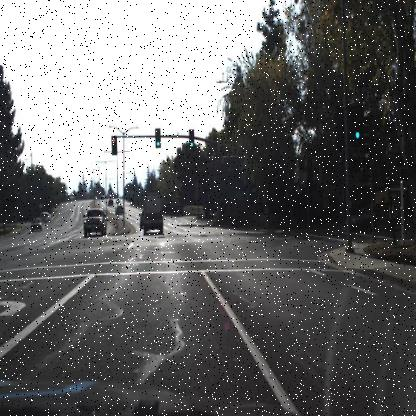car: (346, 200, 397, 235), (82, 208, 107, 237), (29, 218, 43, 232), (138, 209, 145, 233), (138, 208, 144, 230), (42, 212, 52, 224), (115, 206, 123, 217), (106, 197, 114, 207)
trafficLight: (108, 132, 119, 160)
trafficLight-Green: (188, 127, 195, 149), (154, 127, 161, 148)
trafficLight-RedLeft: (111, 135, 118, 157)
truck: (142, 188, 164, 234)
